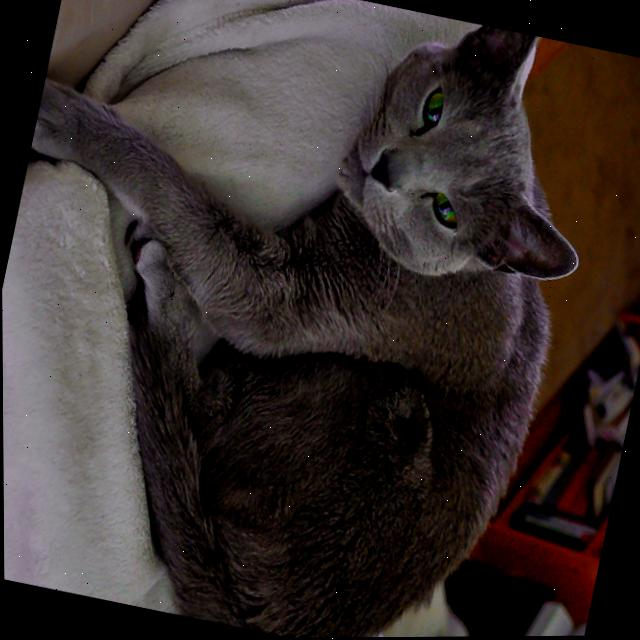Russian Blue: (0, 0, 633, 640)
